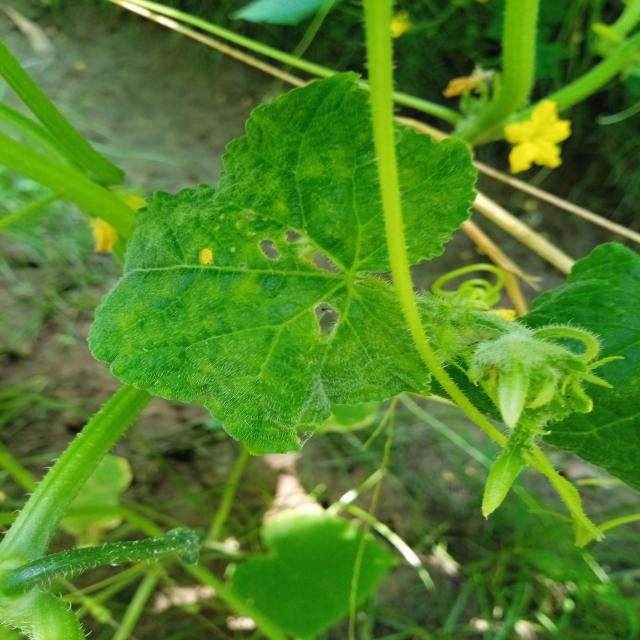cucumber_healthy: (86, 58, 484, 466), (520, 230, 640, 503)
